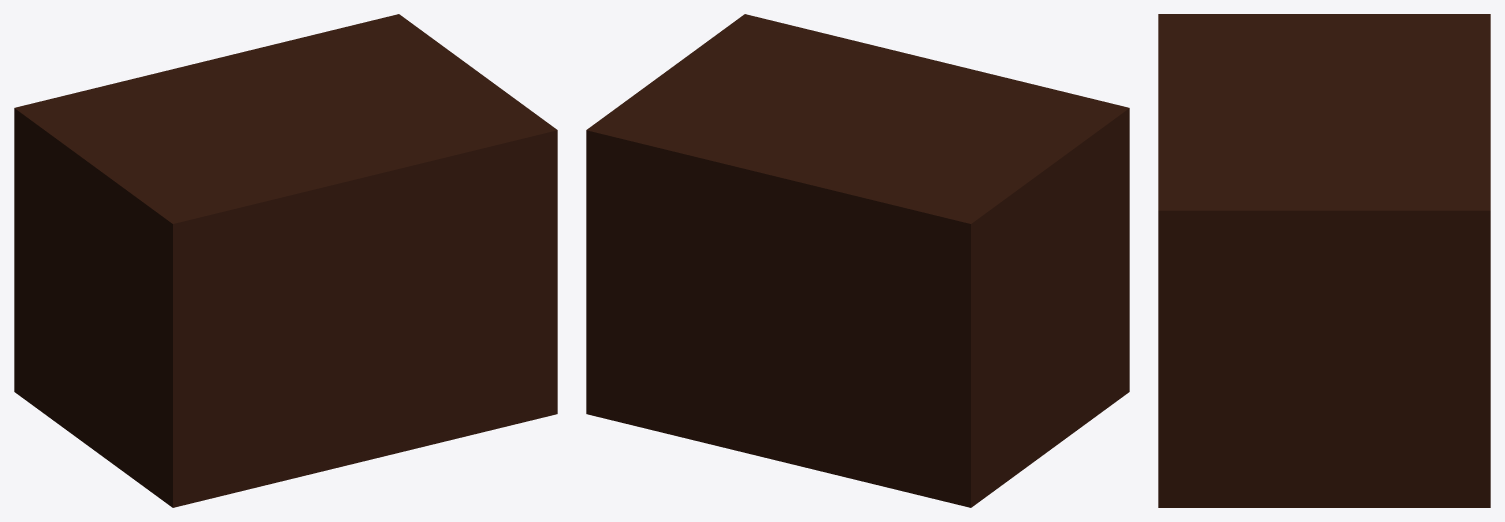
The model's file is shelf.obj.
3 renders of one model, left to right at view 1: azimuth 30°, elevation 25°; view 2: azimuth 150°, elevation 25°; view 3: azimuth 270°, elevation 25°, orthographic. The views are drawn at different scales.
Visible parts, largest first — view 1: dark_wood; view 2: dark_wood; view 3: dark_wood.
Boxes of the visible parts, box(x1,y1,x2,y2) form: dark_wood: box(14, 14, 557, 507); dark_wood: box(586, 14, 1129, 507); dark_wood: box(1158, 14, 1490, 507).
Bounding box in the file's own units: 1.05 × 0.74 × 0.75.
